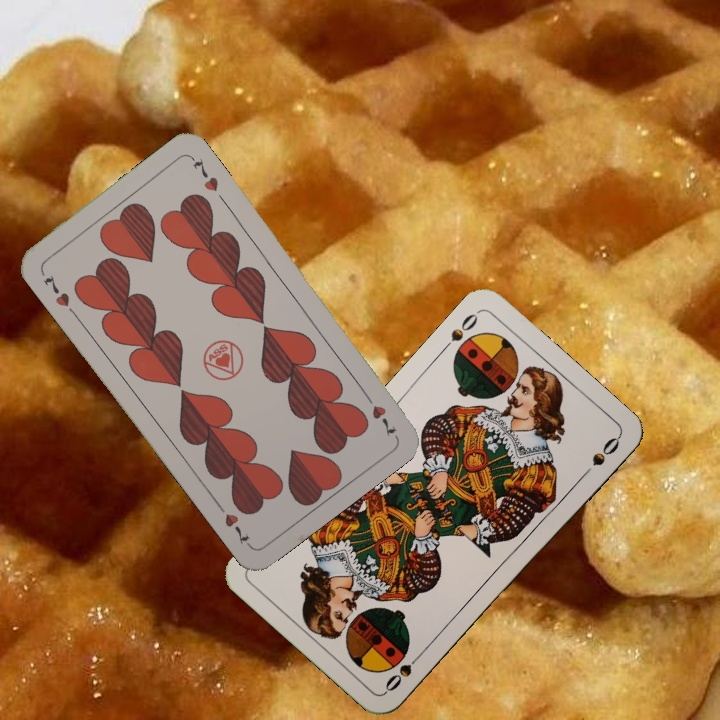H7: (359, 387, 399, 438), (39, 270, 79, 318)
SO: (381, 647, 427, 695), (437, 307, 481, 355)
